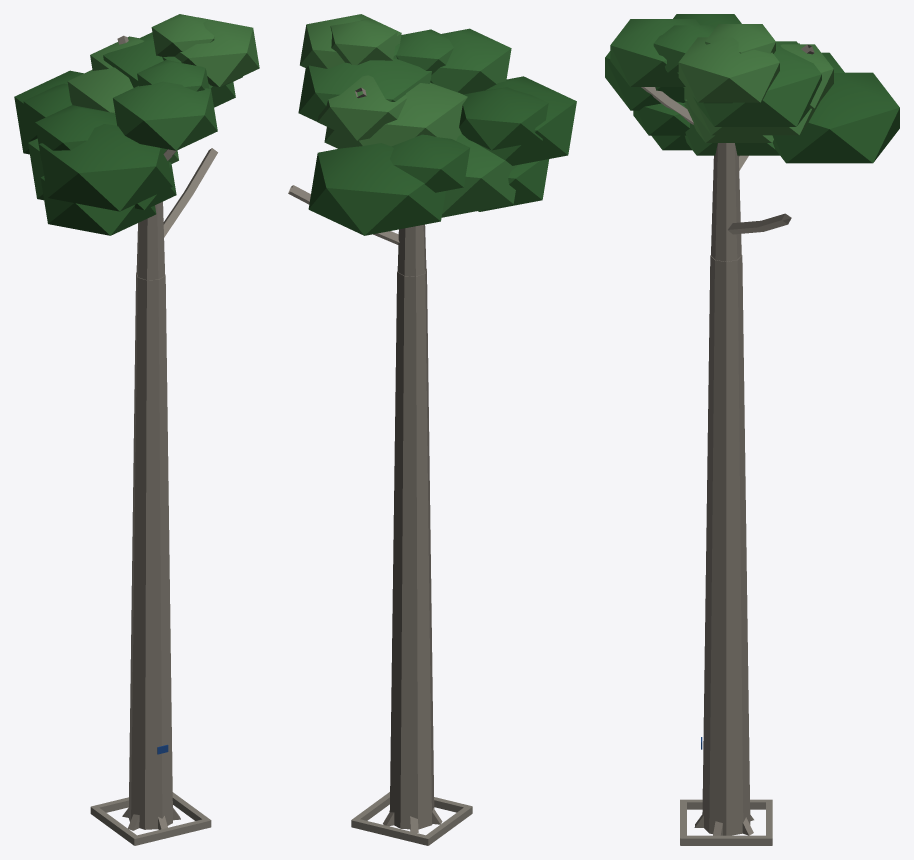
The model's file is cay_dau.glb.
3 renders of one model, left to right at view 1: azimuth 30°, elevation 25°; view 2: azimuth 150°, elevation 25°; view 3: azimuth 270°, elevation 25°, orthographic. The views are drawn at different scales.
Parts seen in each view (by area): view 1: cay_dau; view 2: cay_dau; view 3: cay_dau.
Boxes of the visible parts, box(x1,y1,x2,y2) form: cay_dau: box(14, 14, 259, 845); cay_dau: box(288, 14, 576, 845); cay_dau: box(605, 14, 899, 845).
Size of the model in its own units: 4.91 by 15.87 by 5.15.
